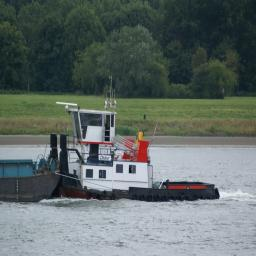tugboat: (49, 97, 223, 208)
